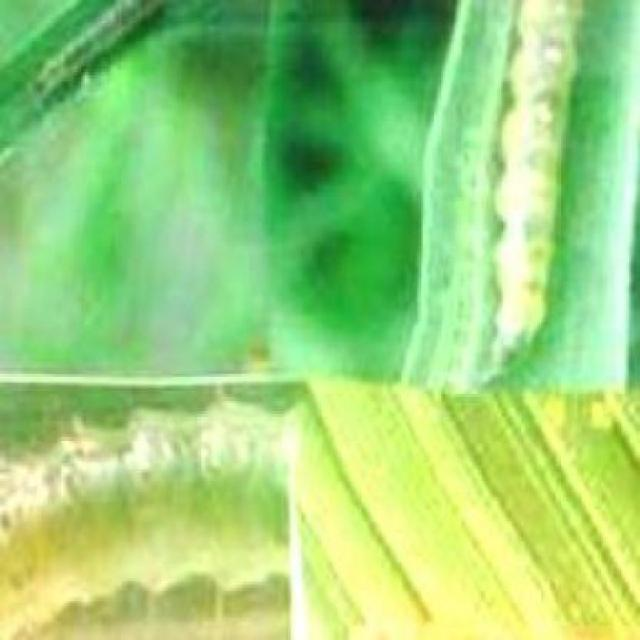leaf-folder: (25, 412, 283, 606), (469, 4, 591, 378)
